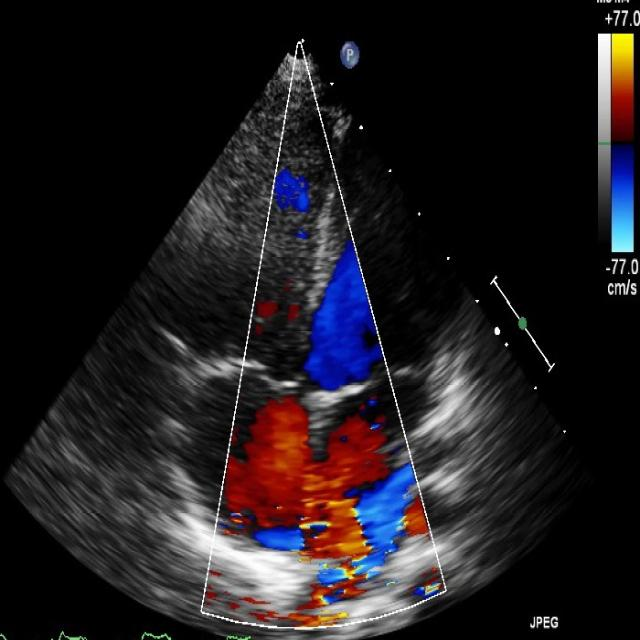ASDType2: (227, 398, 434, 599)
